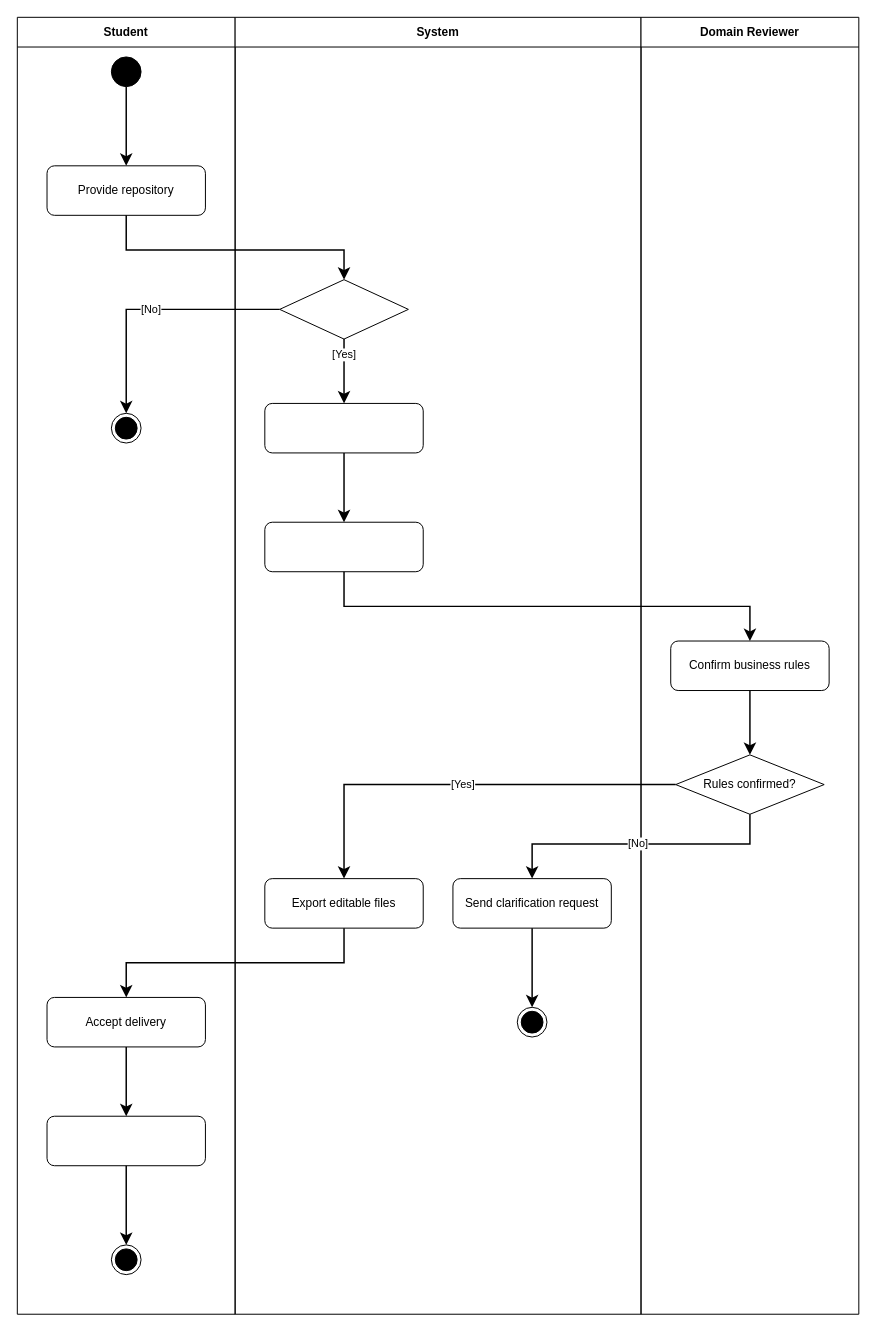
Some shapes in this 876 by 1332 pixel diagram are drawn without their labels. The centre of each missing label's shape, as x and y in pixels:
"Generate diagram set" belongs at point (343, 546).
"Pay balance" belongs at point (125, 1140).
"Read customer code" belongs at point (343, 427).
"Scope signed?" belongs at point (343, 309).
